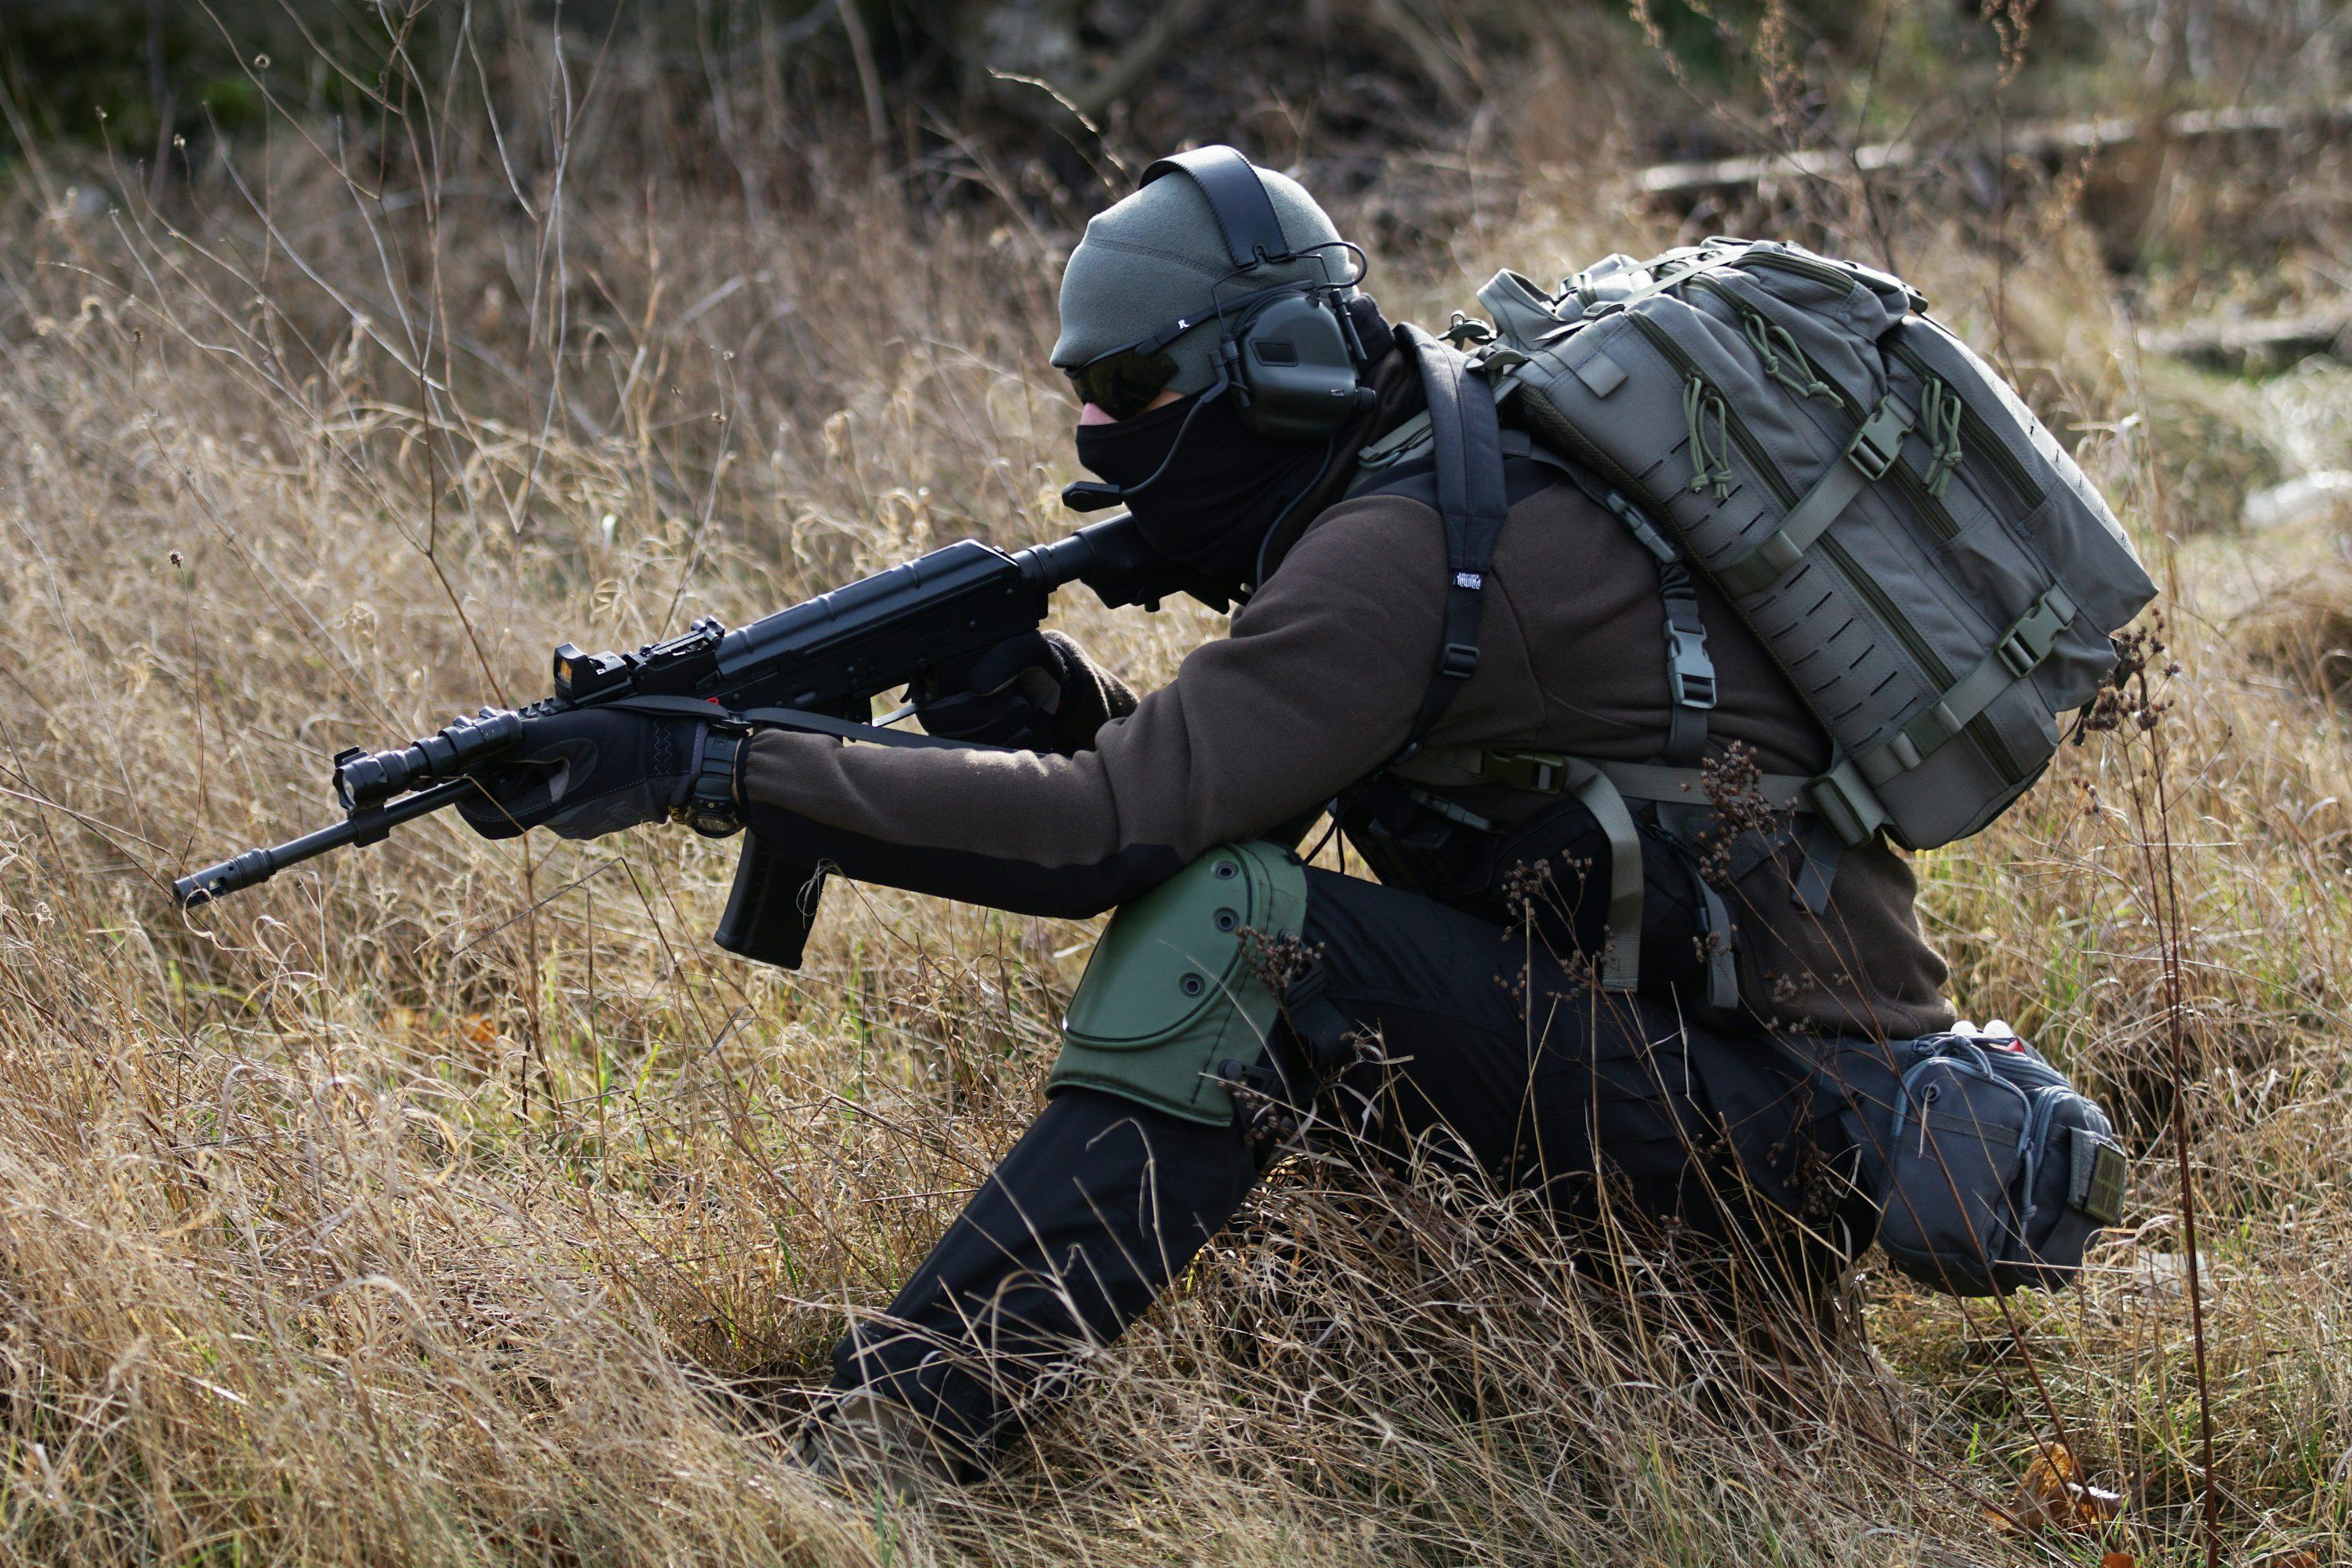gun: (0, 465, 1272, 1081)
